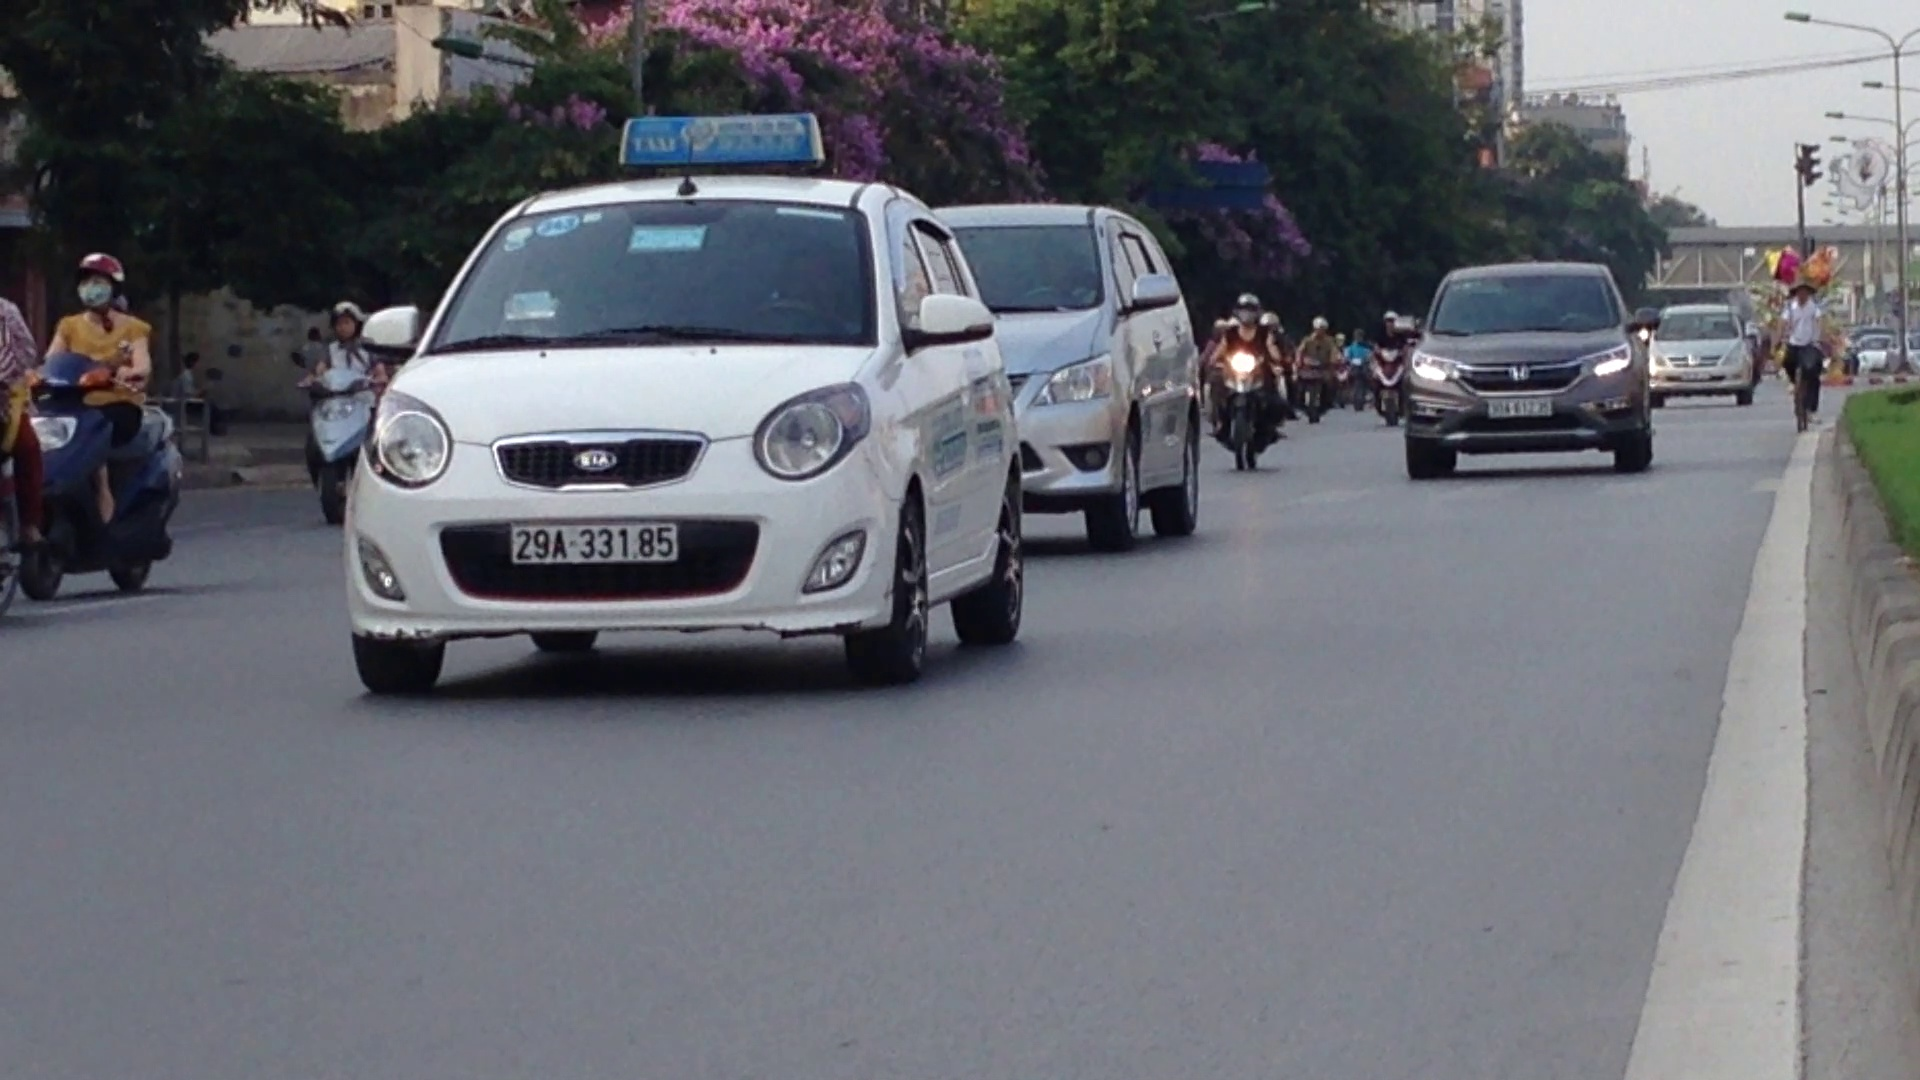vehicle-plate: (507, 520, 683, 565), (1486, 396, 1556, 420)
